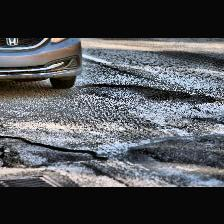pothole: (0, 133, 106, 167), (76, 82, 190, 100)
